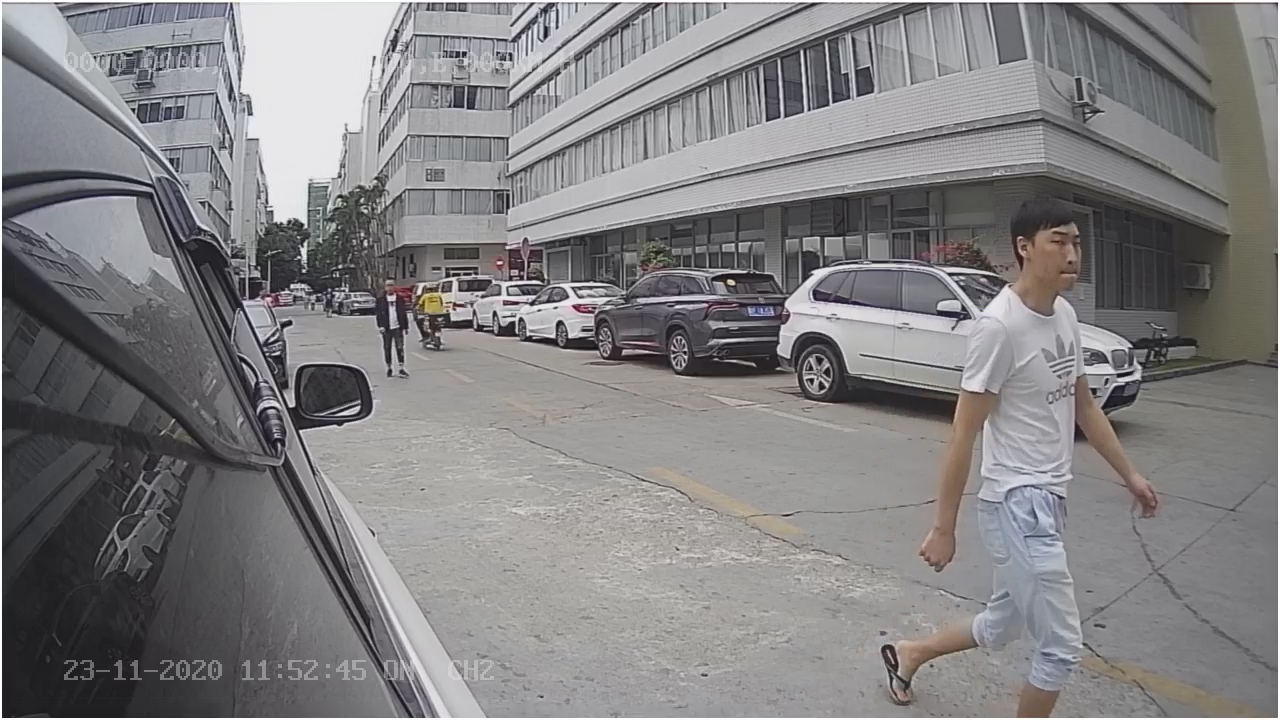person: (946, 199, 1137, 707)
